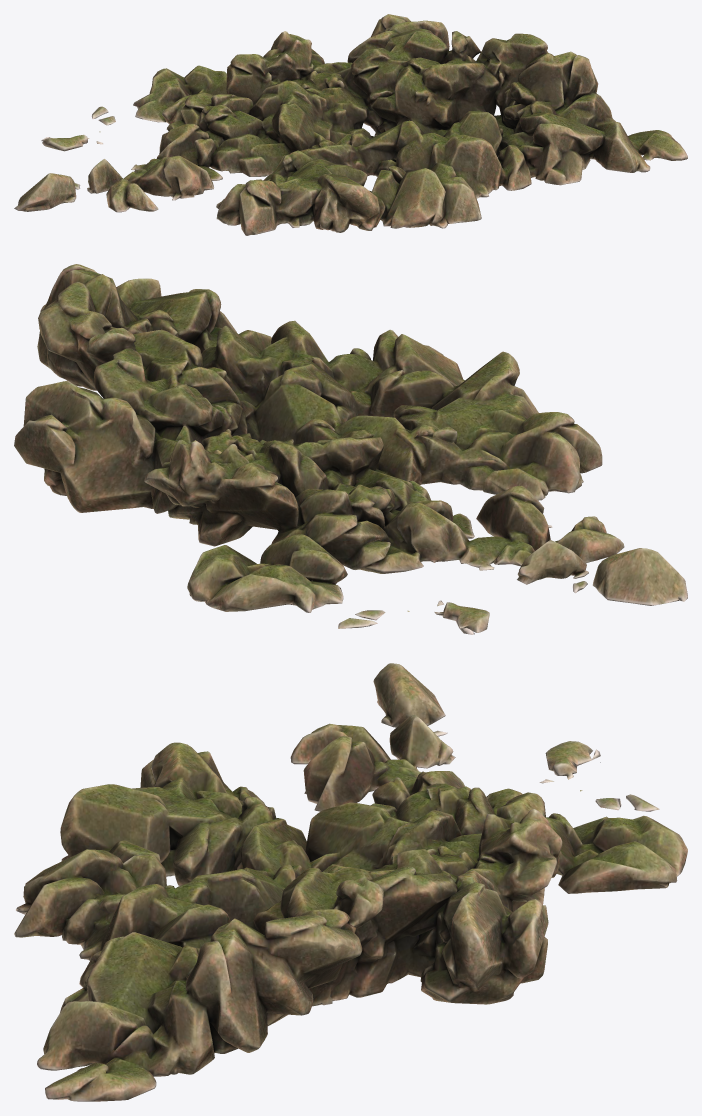
3 renders of one model, top to bottom at view 1: azimuth 30°, elevation 25°; view 2: azimuth 150°, elevation 25°; view 3: azimuth 270°, elevation 25°, orthographic. The views are drawn at different scales.
Visible parts, largest first — view 1: Volume5; view 2: Volume5; view 3: Volume5.
Part boxes in pixels (x1,y1,x2,y2): Volume5: (14,14,687,235); Volume5: (14,264,687,634); Volume5: (14,663,687,1101).
Size of the model in its own units: 668 by 92.46 by 455.
1 material, 1 textured.
